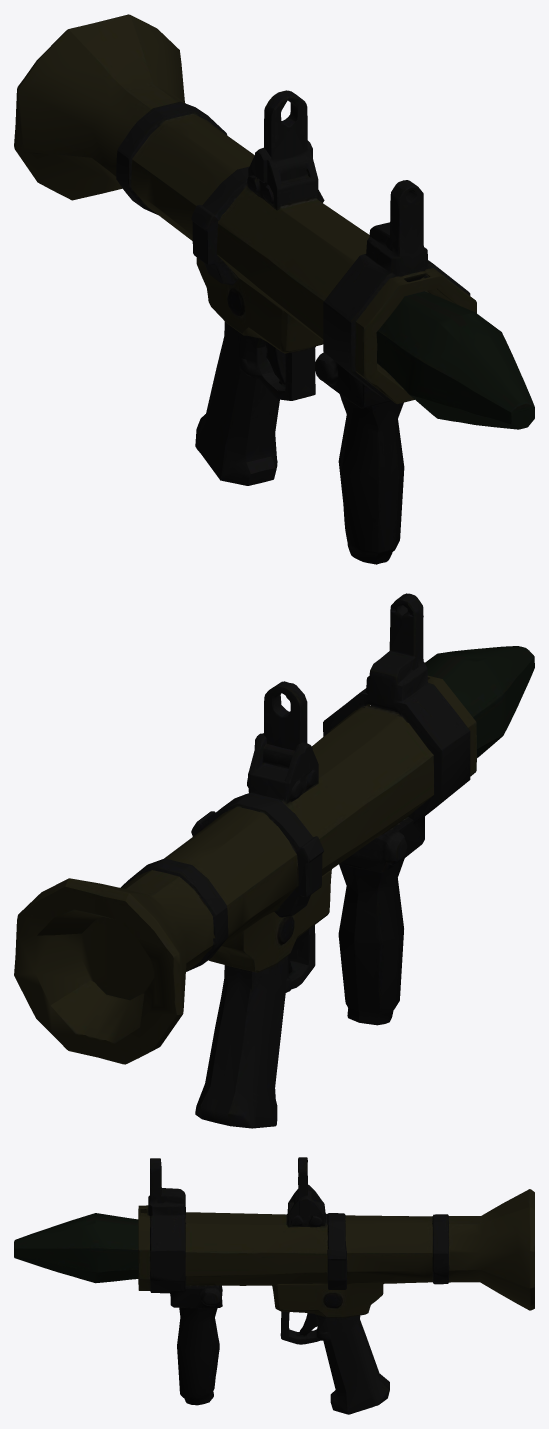
The model's file is rocket_launcher_low.glb.
3 views of the same model, one above another, from view 1: azimuth 30°, elevation 25°; view 2: azimuth 150°, elevation 25°; view 3: azimuth 270°, elevation 25° (orthographic). The views are drawn at different scales.
Parts seen in each view (by area): view 1: world; view 2: world; view 3: world.
Part boxes in pixels (left/top/right/bottom): world: left=14, top=14, right=534, bottom=564; world: left=14, top=593, right=534, bottom=1128; world: left=14, top=1157, right=534, bottom=1414.
Bounding box in the file's own units: 0.2264 × 0.527 × 1.
1 material, 1 textured.
